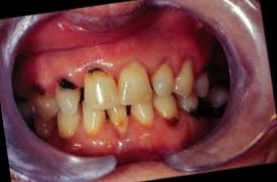Caries: (160, 107, 184, 131), (84, 62, 110, 80), (55, 76, 78, 92)
